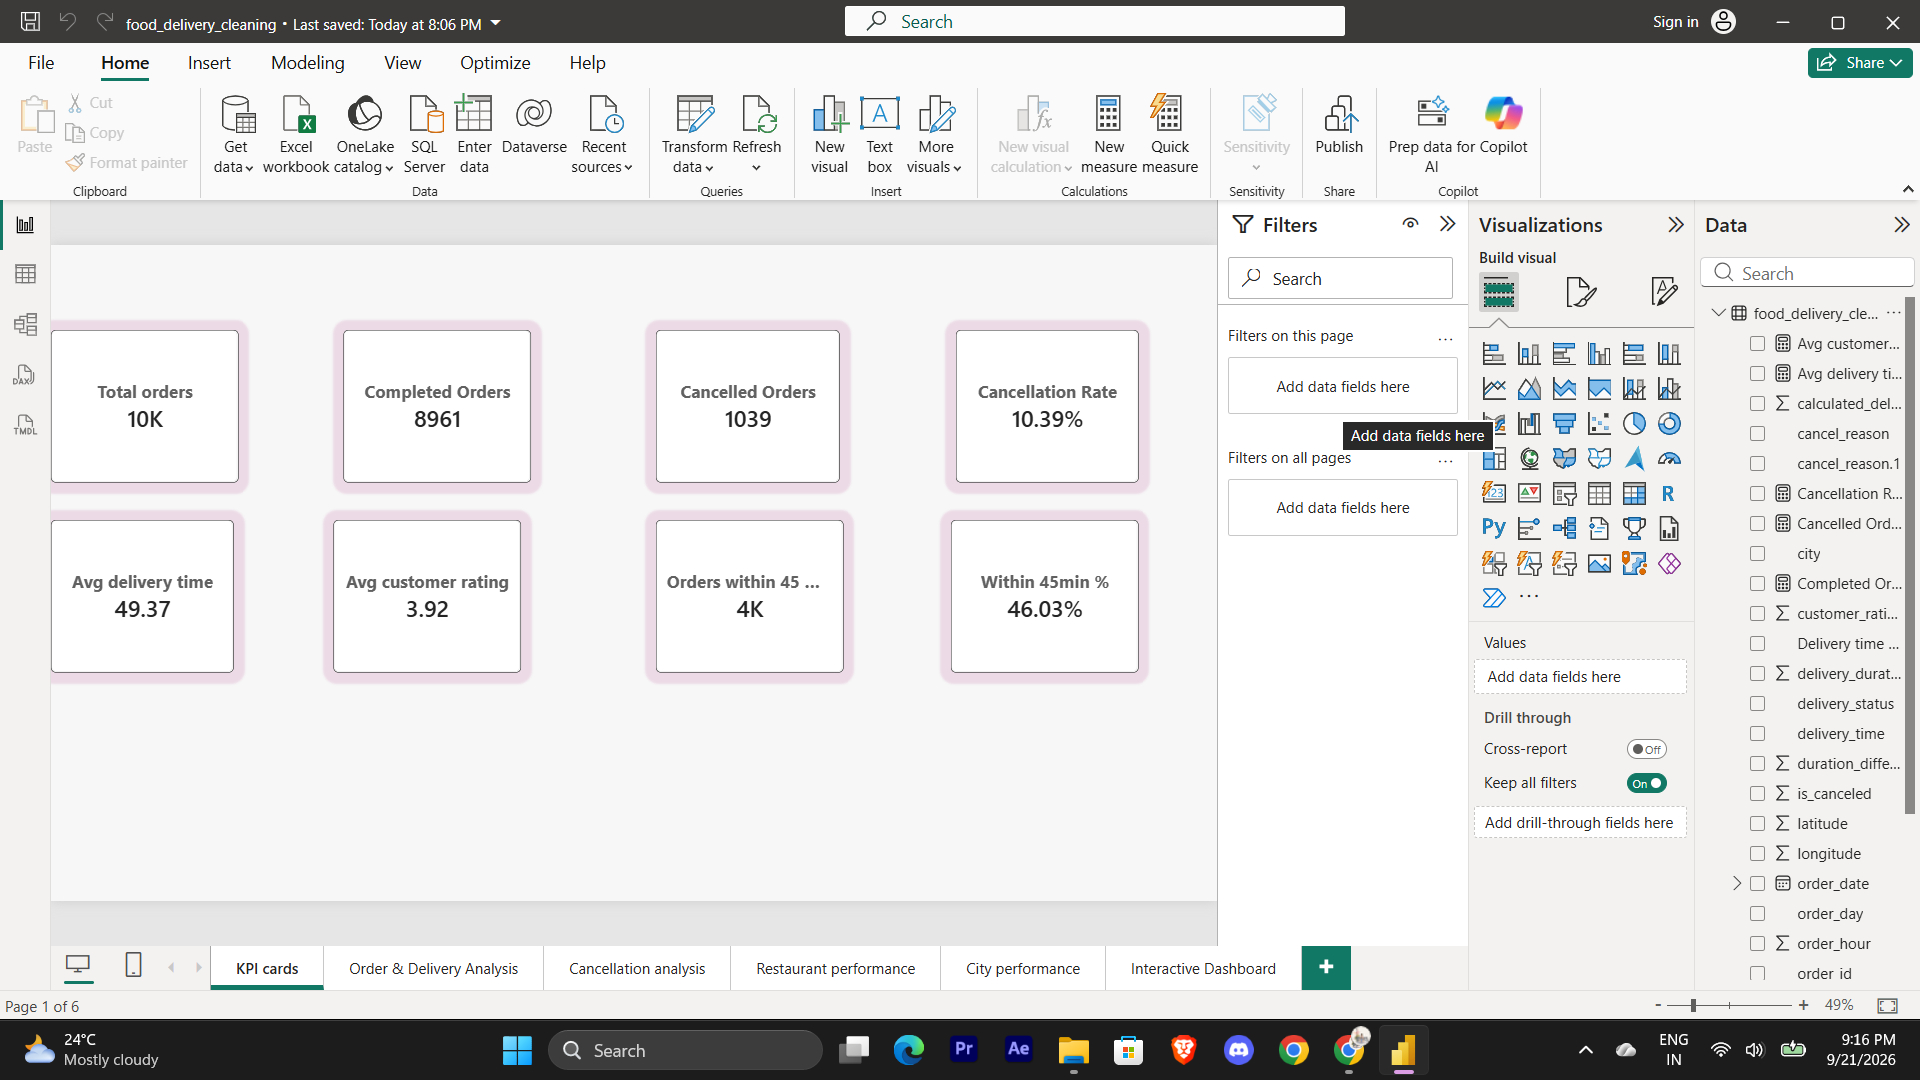

What the dashboard file says about the page in this screenshot:
{"tool":"powerbi","page":{"name":"KPI cards","canvas":[1920,1080],"ordinal":0},"visuals":[{"type":"cardVisual","fields":{"Data":["food_delivery_cleaning.Total orders"]},"box":[0,140,308.7,251.1],"z":0},{"type":"cardVisual","fields":{"Data":["food_delivery_cleaning.Completed Orders"]},"box":[481.6,140,308.7,251.1],"z":1000},{"type":"cardVisual","fields":{"Data":["food_delivery_cleaning.Avg customer rating"]},"box":[465.2,452.8,308.7,251.1],"z":2000},{"type":"cardVisual","fields":{"Data":["food_delivery_cleaning.Orders within 45 min"]},"box":[996.2,452.8,308.7,251.1],"z":3000},{"type":"cardVisual","fields":{"Data":["food_delivery_cleaning.Within 45min %"]},"box":[1482,452.8,308.7,251.1],"z":4000},{"type":"cardVisual","fields":{"Data":["food_delivery_cleaning.Cancelled Orders"]},"box":[996.2,140,302.6,251.1],"z":5000},{"type":"cardVisual","fields":{"Data":["food_delivery_cleaning.Cancellation Rate"]},"box":[1490.2,140,300.5,251.1],"z":6000},{"type":"cardVisual","fields":{"Data":["food_delivery_cleaning.Avg delivery time"]},"box":[0,452.8,300.5,251.1],"z":7000}]}

Visuals, with their boxes on the page's 1920x1080 design canvas (x1, y1, x2, y2). These are canvas units, not pixel positions in the 1920x1080 screenshot, which may show the page scaled, cropped or inside an application window:
cardVisual - food_delivery_cleaning.Total orders: <box>0,140,309,391</box>
cardVisual - food_delivery_cleaning.Completed Orders: <box>482,140,790,391</box>
cardVisual - food_delivery_cleaning.Avg customer rating: <box>465,453,774,704</box>
cardVisual - food_delivery_cleaning.Orders within 45 min: <box>996,453,1305,704</box>
cardVisual - food_delivery_cleaning.Within 45min %: <box>1482,453,1791,704</box>
cardVisual - food_delivery_cleaning.Cancelled Orders: <box>996,140,1299,391</box>
cardVisual - food_delivery_cleaning.Cancellation Rate: <box>1490,140,1791,391</box>
cardVisual - food_delivery_cleaning.Avg delivery time: <box>0,453,300,704</box>
